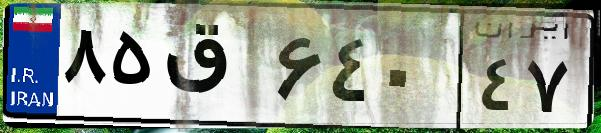0: (385, 28, 445, 110)
4: (330, 28, 385, 110), (475, 38, 525, 113)
5: (110, 28, 158, 98)
6: (270, 28, 330, 110)
7: (525, 38, 570, 115)
8: (57, 26, 110, 100)
ق: (158, 20, 270, 120)
